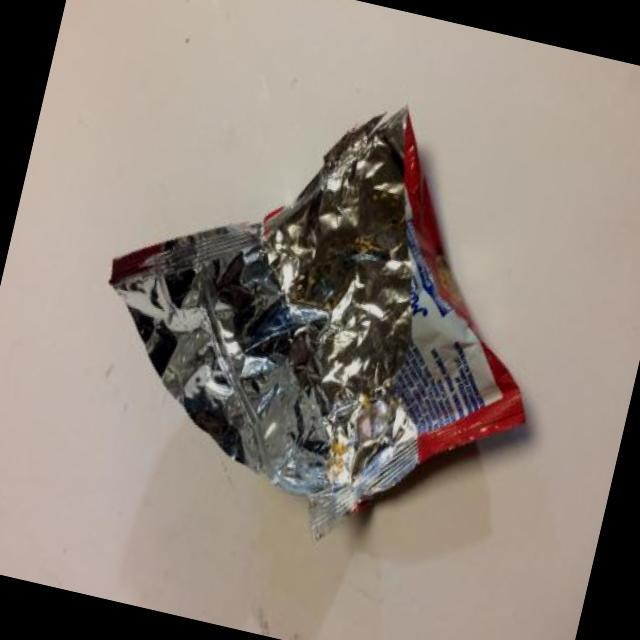Trash: (59, 44, 590, 584)
